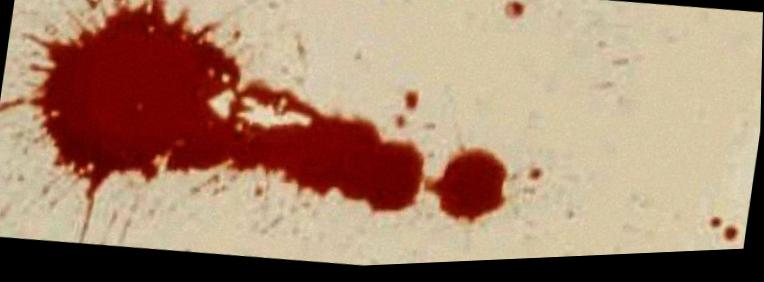Fire: (30, 0, 425, 214), (425, 151, 510, 225)
